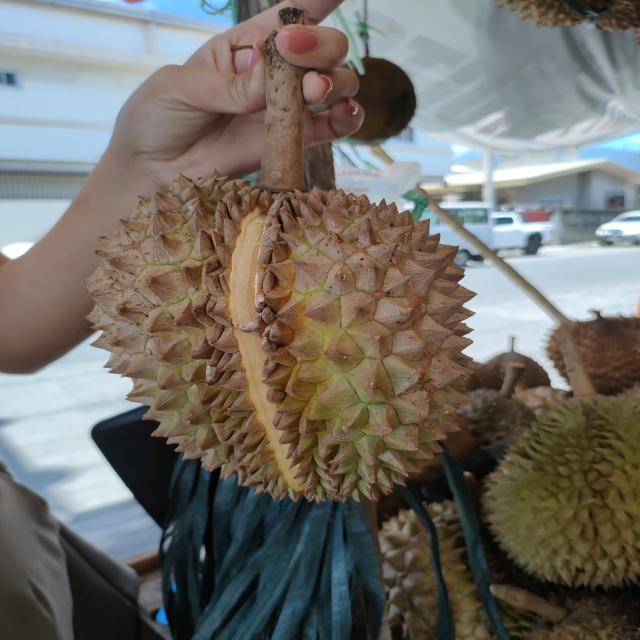defective: (85, 172, 482, 503)
